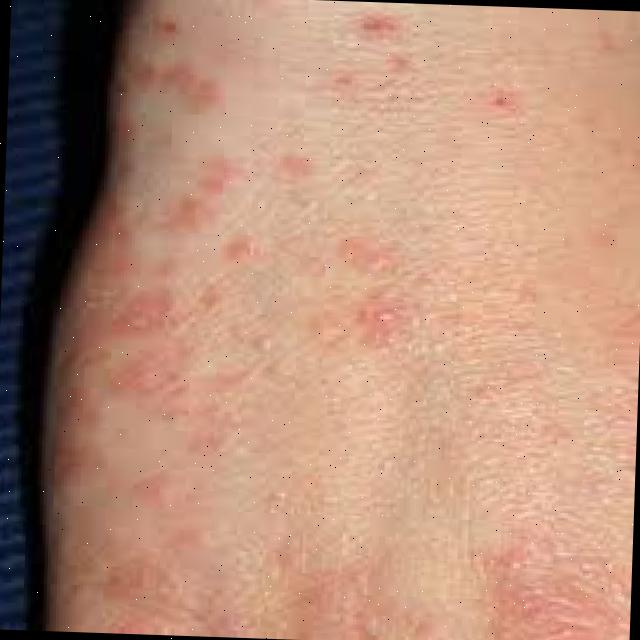kan emici bocekler: (108, 34, 575, 634)
